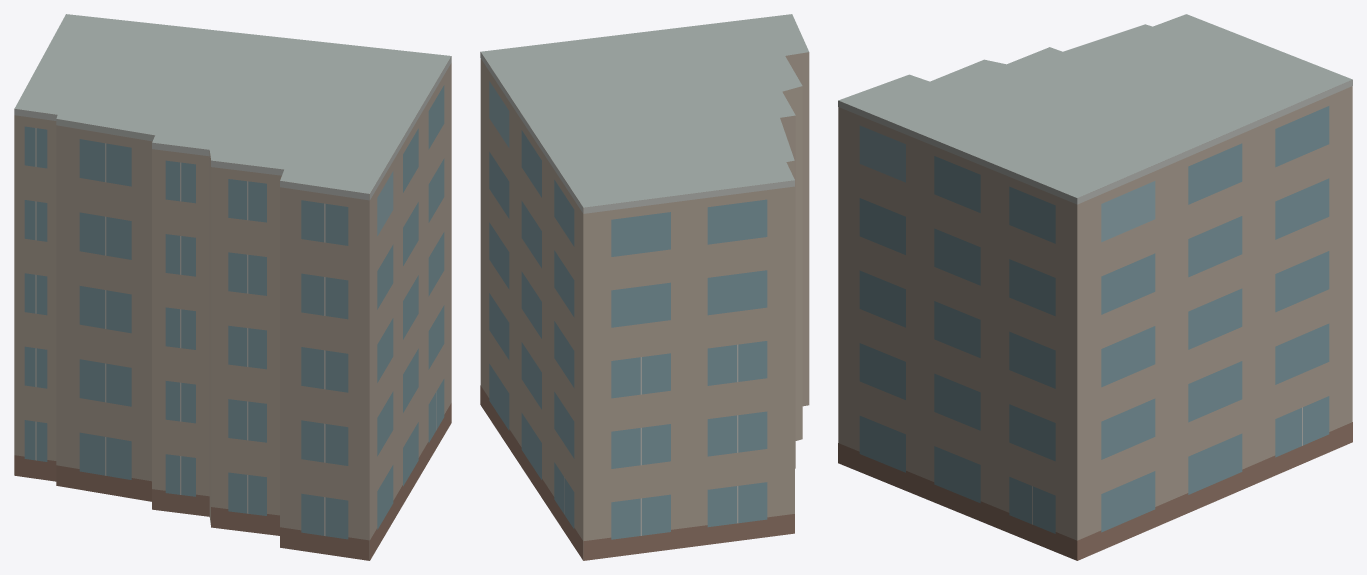
Rendered from survey-upis-32843818.glb.
The picture shows the model from 3 angles, left to right: view 1: azimuth 30°, elevation 25°; view 2: azimuth 150°, elevation 25°; view 3: azimuth 270°, elevation 25°; orthographic projection. The views are drawn at different scales.
Visible parts, largest first — view 1: survey-upis-32843818.tmp; view 2: survey-upis-32843818.tmp; view 3: survey-upis-32843818.tmp.
Boxes of the visible parts, x1,y1,x2,y2 form: survey-upis-32843818.tmp: (14, 14, 451, 560); survey-upis-32843818.tmp: (480, 14, 809, 560); survey-upis-32843818.tmp: (838, 14, 1352, 560).
Bounding box in the file's own units: 15.04 × 13.8 × 17.75.
